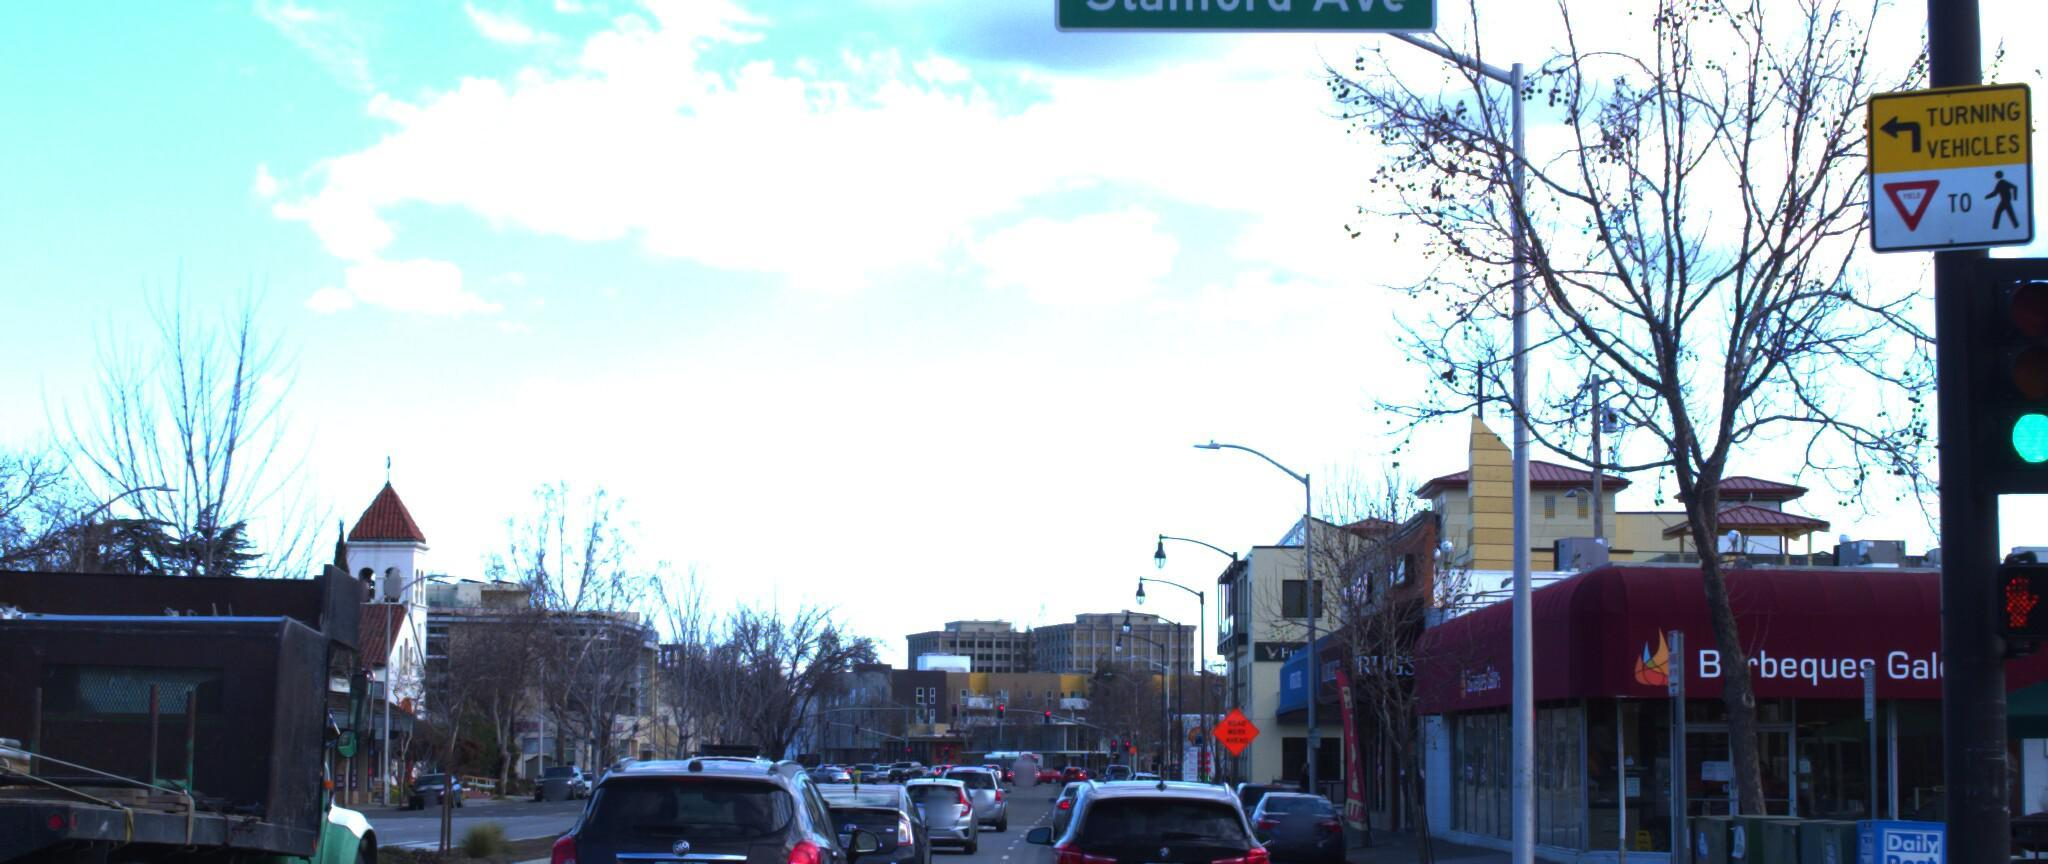bus: (0, 620, 236, 864)
car: (507, 740, 893, 864), (1020, 753, 1289, 864), (778, 760, 939, 864), (1229, 767, 1348, 859), (891, 760, 982, 843), (955, 757, 1027, 831)
truck: (0, 452, 461, 864)
